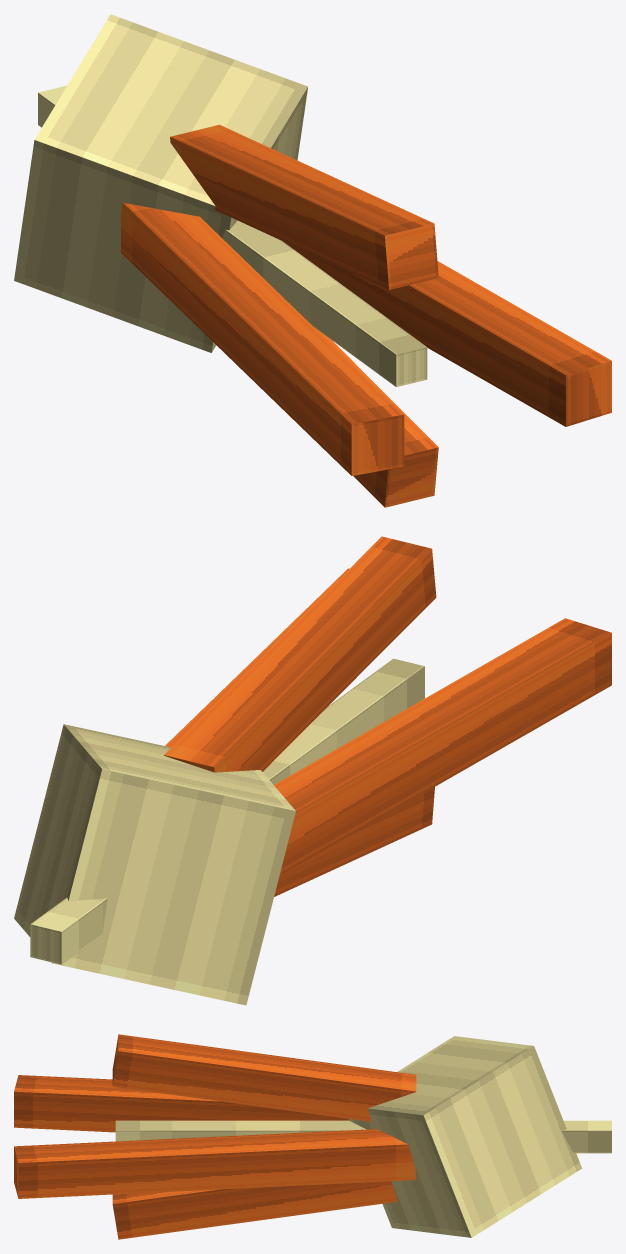
Rendered from projectile_fire_fire.gltf.
The picture shows the model from 3 angles, top to bottom: view 1: azimuth 30°, elevation 25°; view 2: azimuth 150°, elevation 25°; view 3: azimuth 270°, elevation 25°; orthographic projection. The views are drawn at different scales.
Parts seen in each view (by area): view 1: core_mesh; view 2: core_mesh; view 3: core_mesh.
Part boxes in pixels (<box>): core_mesh: <box>14,14,611,507</box>; core_mesh: <box>14,536,611,1005</box>; core_mesh: <box>14,1034,611,1239</box>.
Bounding box in the file's own units: 0.2678 × 0.2619 × 0.7528.
1 material, 1 textured.
